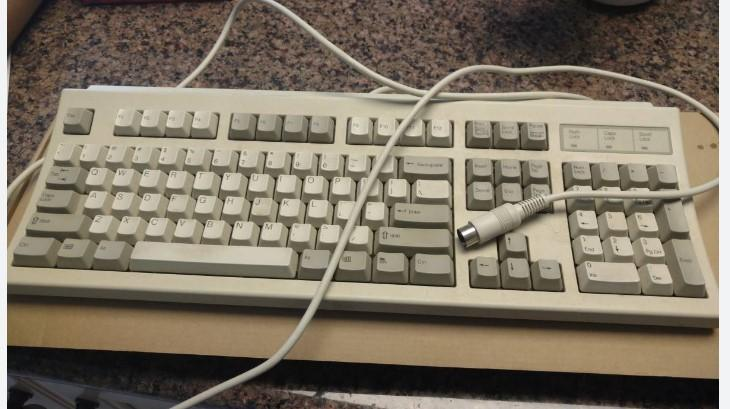Keyboard: (7, 86, 716, 331)
